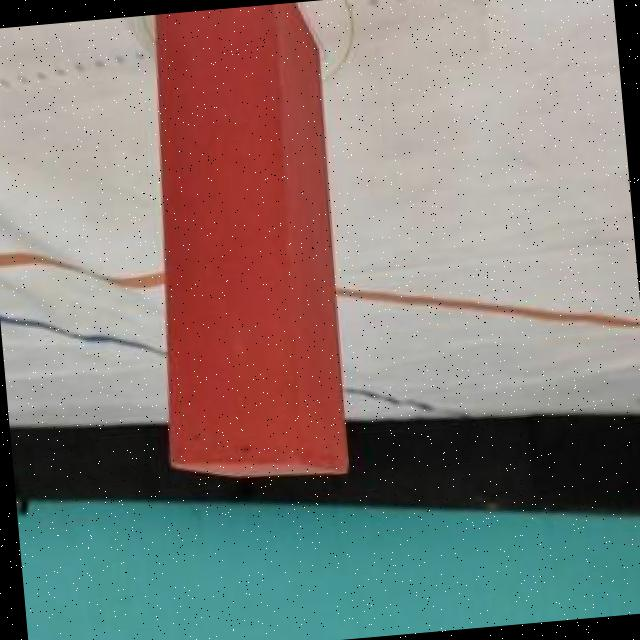redbox: (156, 1, 347, 486)
